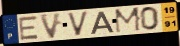0: (139, 6, 162, 32)
A: (90, 10, 116, 35)
E: (18, 15, 41, 42)
M: (113, 7, 142, 35)
V: (38, 12, 63, 40), (66, 11, 90, 38)
